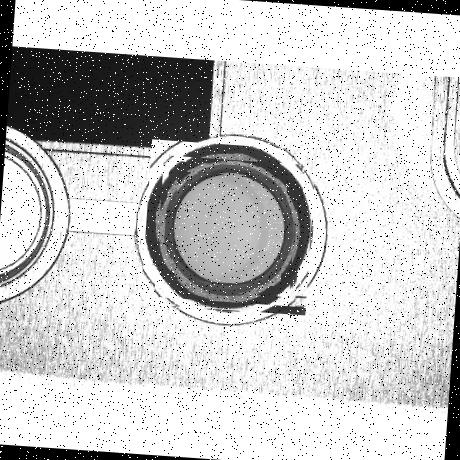Hole: (140, 140, 318, 316)
Hole2: (154, 156, 306, 306)
Hole3: (161, 160, 299, 298)
Hole4: (170, 172, 288, 286)
